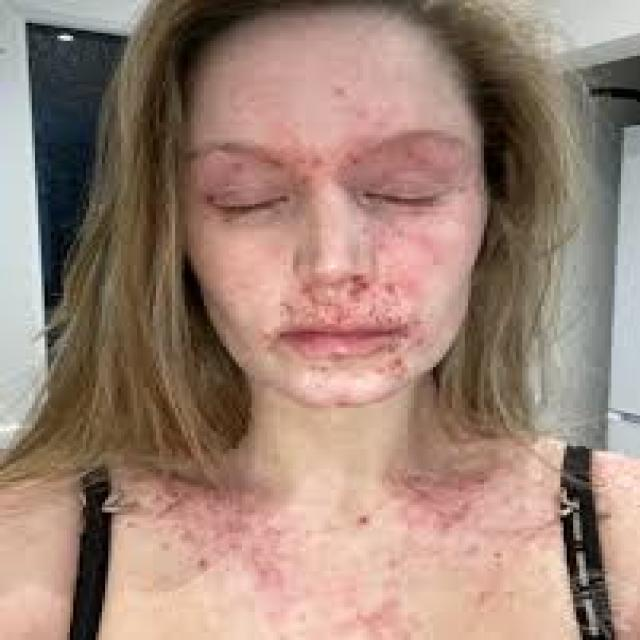Eczema: (144, 466, 546, 606), (224, 132, 438, 386)
